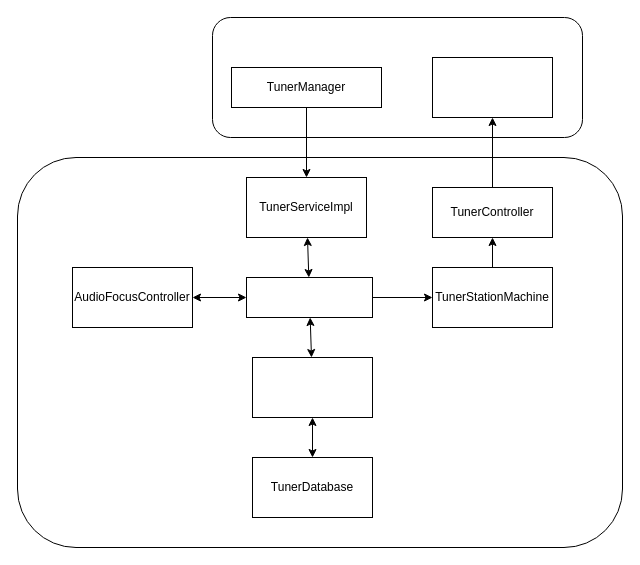
Some shapes in this 640 by 565 pixel diagram are drawn without their labels. Here are the shapes that lost their labels. From the top down, the centre of each, then its label:
the point at 492,87: TunerCallback
the point at 309,297: TunerService
the point at 312,387: TunerStorage
